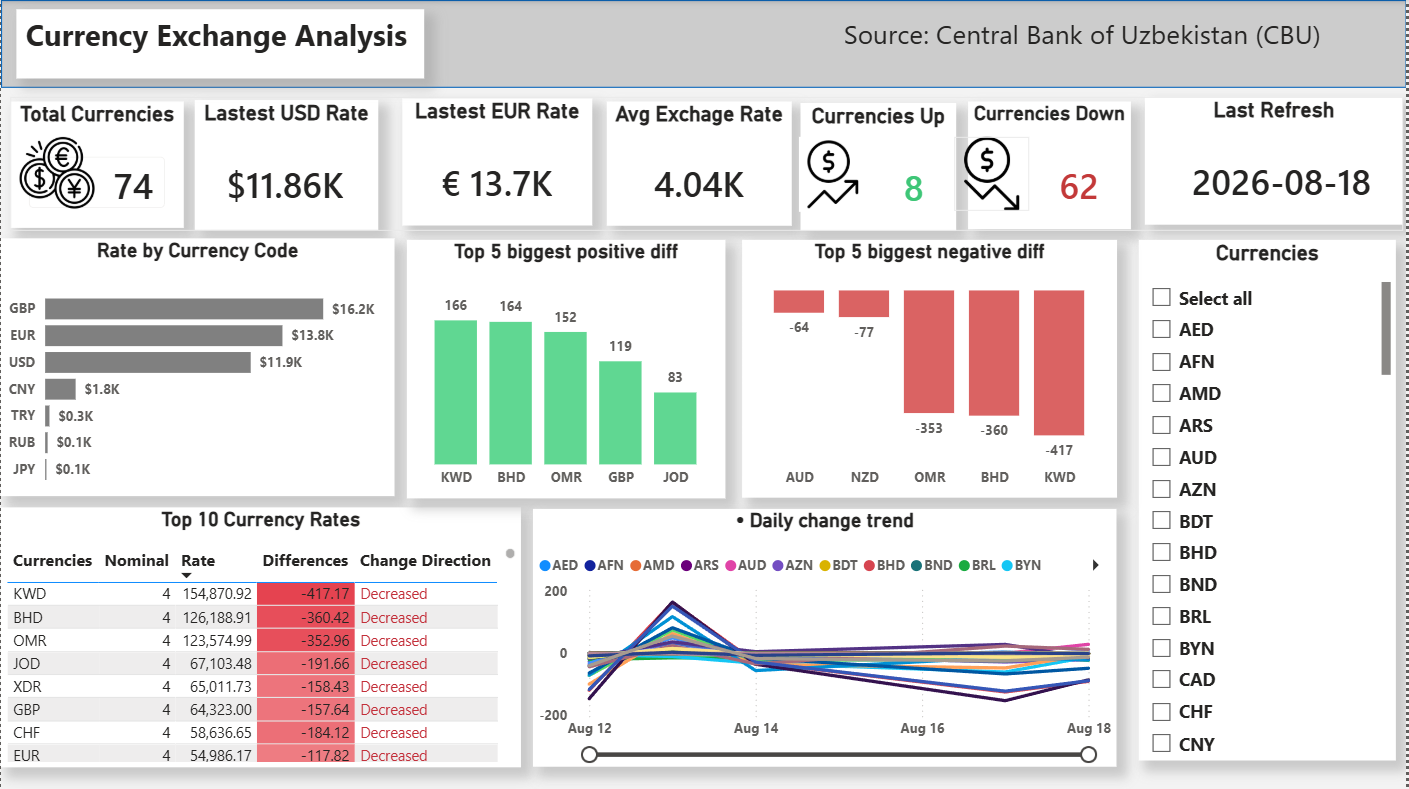

Layout of this report page (visuals, bound fields, positions):
{"tool":"powerbi","page":{"name":"Page 1","canvas":[1280,720],"ordinal":0},"visuals":[{"type":"group","id":"g1","title":"Group 1","box":[8.6,87.8,1268.5,122.5],"z":0},{"type":"cardVisual","title":"Total Currencies","fields":{"Data":["Measure Table.Total Currencies"]},"box":[8.6,92,158.3,115],"z":0,"group":"g1"},{"type":"shape","box":[0,0,1280,80],"z":1000},{"type":"cardVisual","title":"Lastest USD Rate","fields":{"Data":["Measure Table.Lastest USD Rate"]},"box":[176.9,90.2,167.1,118.6],"z":1000,"group":"g1"},{"type":"textbox","box":[13.3,8.3,371.7,63.3],"z":2000},{"type":"cardVisual","title":"Lastest EUR Rate","fields":{"Data":["Measure Table.Lastest EUR Rate"]},"box":[365.1,88.6,172.9,115.7],"z":2000,"group":"g1"},{"type":"cardVisual","title":"Avg Exchage Rate","fields":{"Data":["Measure Table.Average Exchange Rate"]},"box":[552.1,91.5,168.3,113.3],"z":3000,"group":"g1"},{"type":"image","box":[0,123.3,101.7,68.3],"z":3000},{"type":"cardVisual","title":"Currencies Up","fields":{"Data":["Measure Table.Currency Increased Count"]},"box":[728,93.7,141.7,116.7],"z":4000,"group":"g1"},{"type":"image","box":[868.1,124.6,68.6,67.2],"z":4000},{"type":"cardVisual","title":"Currencies Down","fields":{"Data":["Measure Table.Currency Decreased Count"]},"box":[881.4,92,148.3,116.7],"z":5000,"group":"g1"},{"type":"image","box":[726.7,124.6,61.6,68.6],"z":5000},{"type":"cardVisual","title":"Last Refresh","fields":{"Data":["Measure Table.Last Refreshed Date"]},"box":[1042.1,87.8,235,116.7],"z":6000,"group":"g1"},{"type":"barChart","title":" Rate by Currency Code","fields":{"Category":["CleanData.currency_code"],"Y":["Max(CleanData.rate)"]},"box":[0,216.7,358.3,235],"z":6000},{"type":"tableEx","title":"Top 10 Currency Rates","fields":{"Values":["CleanData.currency_code","Sum(CleanData.nominal)","Sum(CleanData.rate)","Sum(CleanData.diff)","CleanData.change_direction"]},"box":[0,461.7,473.3,236.7],"z":7000},{"type":"slicer","title":"Currencies","fields":{"Values":["CleanData.currency_code"]},"box":[1035.7,218.6,234.3,474.3],"z":8000},{"type":"columnChart","title":"Top 5 biggest positive diff","fields":{"Category":["CleanData.currency_code"],"Y":["Sum(CleanData.diff)"]},"box":[369.6,218.4,289.8,235.2],"z":9000},{"type":"columnChart","title":"Top 5 biggest negative diff","fields":{"Category":["CleanData.currency_code"],"Y":["Sum(CleanData.diff)"]},"box":[675,218.3,341.7,235],"z":10000},{"type":"lineChart","title":"•\tDaily change trend","fields":{"Category":["CleanData.rate_date"],"Series":["CleanData.currency_code"],"Y":["Avg(CleanData.diff)"]},"box":[485,463.3,531.7,235],"z":11000},{"type":"textbox","box":[711.7,8.3,546.7,63.3],"z":12000}]}

Visuals, with their boxes in screenshot pixels (x1, y1, x2, y2), scaled from the page's 1280x720 canvas onto the 1409x789 screenshot:
"Group 1" group: {"left": 9, "top": 96, "right": 1406, "bottom": 230}
"Total Currencies" cardVisual: {"left": 9, "top": 101, "right": 184, "bottom": 227}
shape: {"left": 0, "top": 0, "right": 1408, "bottom": 88}
"Lastest USD Rate" cardVisual: {"left": 195, "top": 99, "right": 379, "bottom": 229}
textbox: {"left": 15, "top": 9, "right": 424, "bottom": 78}
"Lastest EUR Rate" cardVisual: {"left": 402, "top": 97, "right": 592, "bottom": 224}
"Avg Exchage Rate" cardVisual: {"left": 608, "top": 100, "right": 793, "bottom": 224}
image: {"left": 0, "top": 135, "right": 112, "bottom": 210}
"Currencies Up" cardVisual: {"left": 801, "top": 103, "right": 957, "bottom": 231}
image: {"left": 956, "top": 137, "right": 1031, "bottom": 210}
"Currencies Down" cardVisual: {"left": 970, "top": 101, "right": 1133, "bottom": 229}
image: {"left": 800, "top": 137, "right": 868, "bottom": 212}
"Last Refresh" cardVisual: {"left": 1147, "top": 96, "right": 1406, "bottom": 224}
" Rate by Currency Code" barChart: {"left": 0, "top": 237, "right": 394, "bottom": 495}
"Top 10 Currency Rates" tableEx: {"left": 0, "top": 506, "right": 521, "bottom": 765}
"Currencies" slicer: {"left": 1140, "top": 240, "right": 1398, "bottom": 759}
"Top 5 biggest positive diff" columnChart: {"left": 407, "top": 239, "right": 726, "bottom": 497}
"Top 5 biggest negative diff" columnChart: {"left": 743, "top": 239, "right": 1119, "bottom": 497}
"•	Daily change trend" lineChart: {"left": 534, "top": 508, "right": 1119, "bottom": 765}
textbox: {"left": 783, "top": 9, "right": 1385, "bottom": 78}
